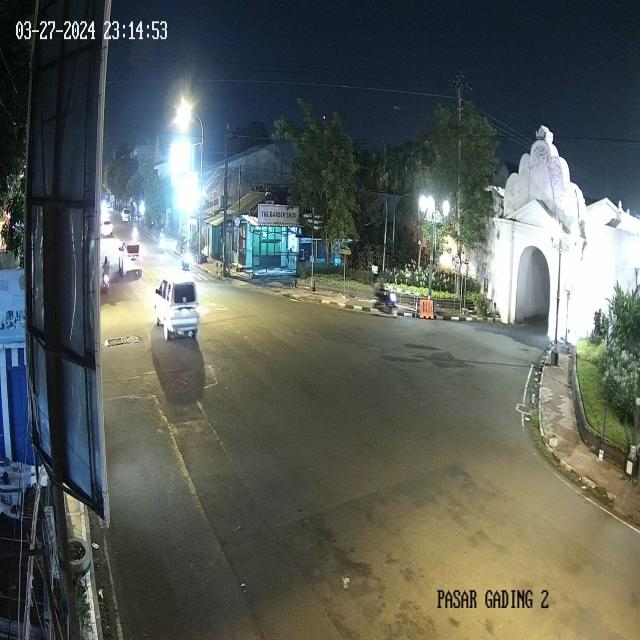car: (154, 278, 199, 338), (115, 239, 144, 279), (100, 217, 114, 240), (122, 209, 132, 222)
motorcycle: (371, 275, 397, 319), (181, 240, 190, 272), (102, 254, 109, 293), (158, 228, 166, 255)
